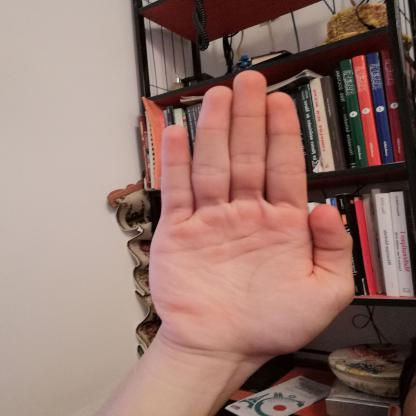SEEN: (134, 58, 369, 368)
